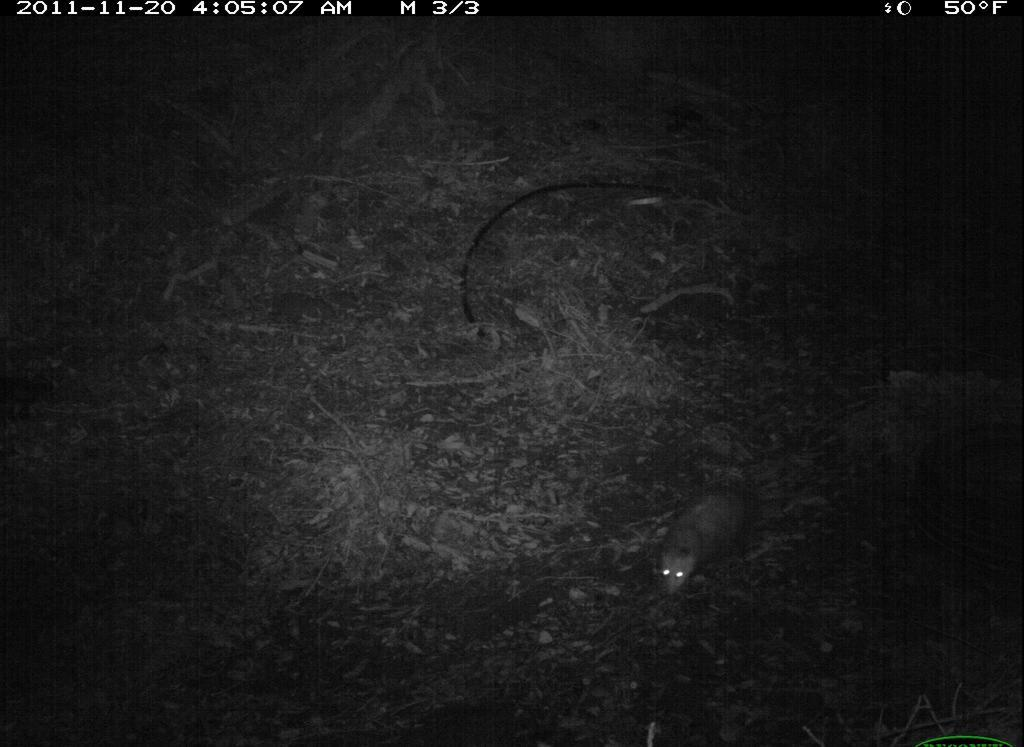opossum: (638, 479, 771, 603)
